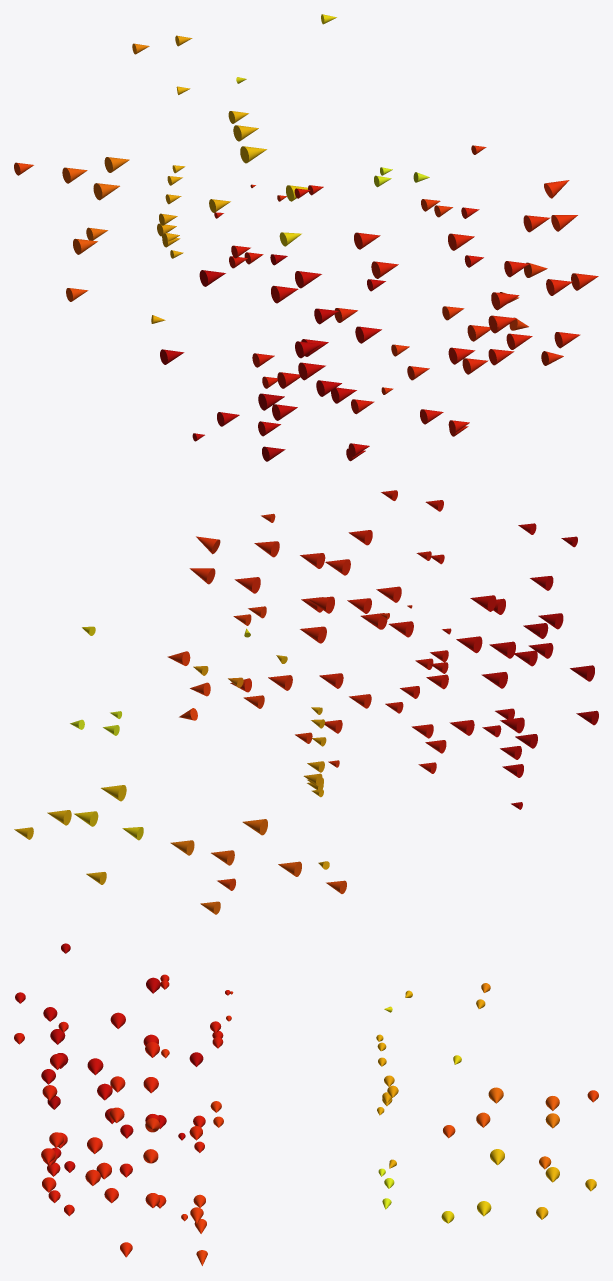
The model's file is LineasCorrienteH2-O2_mh2-5.58_V-1.1.glb.
The picture shows the model from 3 angles, top to bottom: view 1: azimuth 30°, elevation 25°; view 2: azimuth 150°, elevation 25°; view 3: azimuth 270°, elevation 25°; orthographic projection. The views are drawn at different scales.
Bounding box in the file's own units: 0.000811 × 0.000481 × 0.00123.
Materials: 2 (2 with a texture image).
